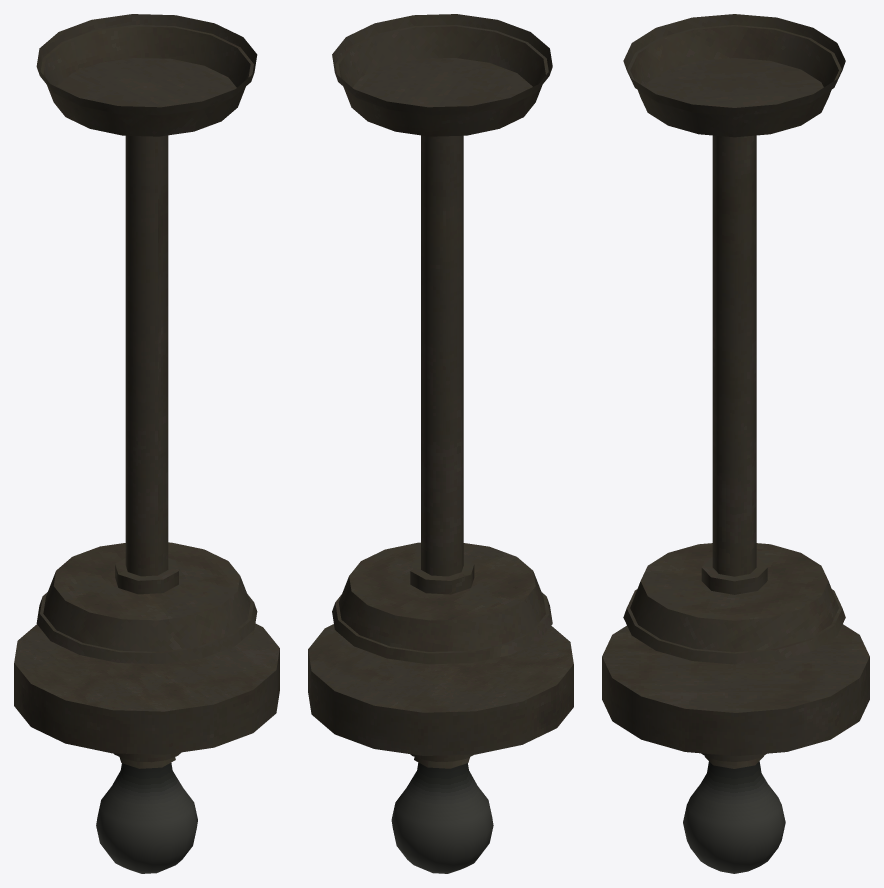
File: ceiling_fan_mp_1_1_light_off.glb
The picture shows the model from 3 angles, left to right: view 1: azimuth 30°, elevation 25°; view 2: azimuth 150°, elevation 25°; view 3: azimuth 270°, elevation 25°; orthographic projection.
Visible parts, largest first — view 1: ceiling_fan_mp_1_1_light_off; view 2: ceiling_fan_mp_1_1_light_off; view 3: ceiling_fan_mp_1_1_light_off.
Part boxes in pixels (x1,y1,x2,y2): ceiling_fan_mp_1_1_light_off: [14, 14, 279, 873]; ceiling_fan_mp_1_1_light_off: [308, 14, 573, 873]; ceiling_fan_mp_1_1_light_off: [602, 14, 869, 873].
Size of the model in its own units: 0.1792 by 0.5966 by 0.1792.
2 materials, 2 textured.
